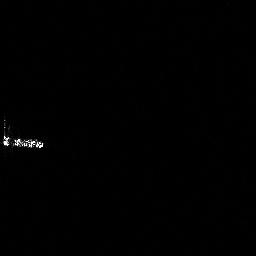ship: (3, 134, 44, 150)
